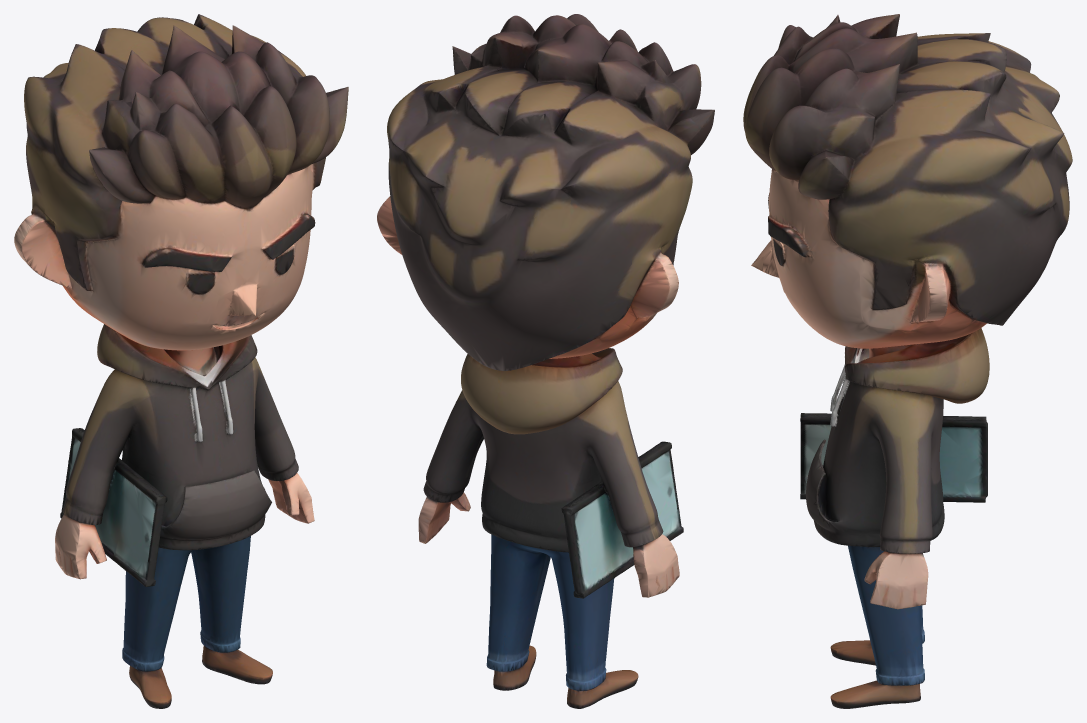
The model's file is dev.glb.
3 renders of one model, left to right at view 1: azimuth 30°, elevation 25°; view 2: azimuth 150°, elevation 25°; view 3: azimuth 270°, elevation 25°, orthographic.
Size of the model in its own units: 0.9507 by 2 by 0.9217.
1 material, 1 textured.
